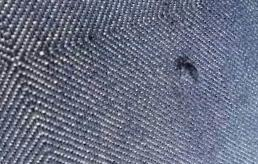knot: (176, 57, 204, 88)
